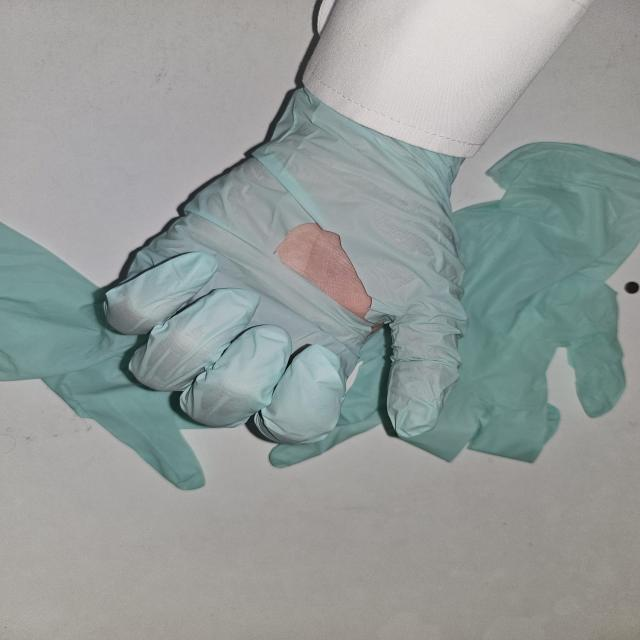gloves_damaged: (92, 83, 471, 443)
